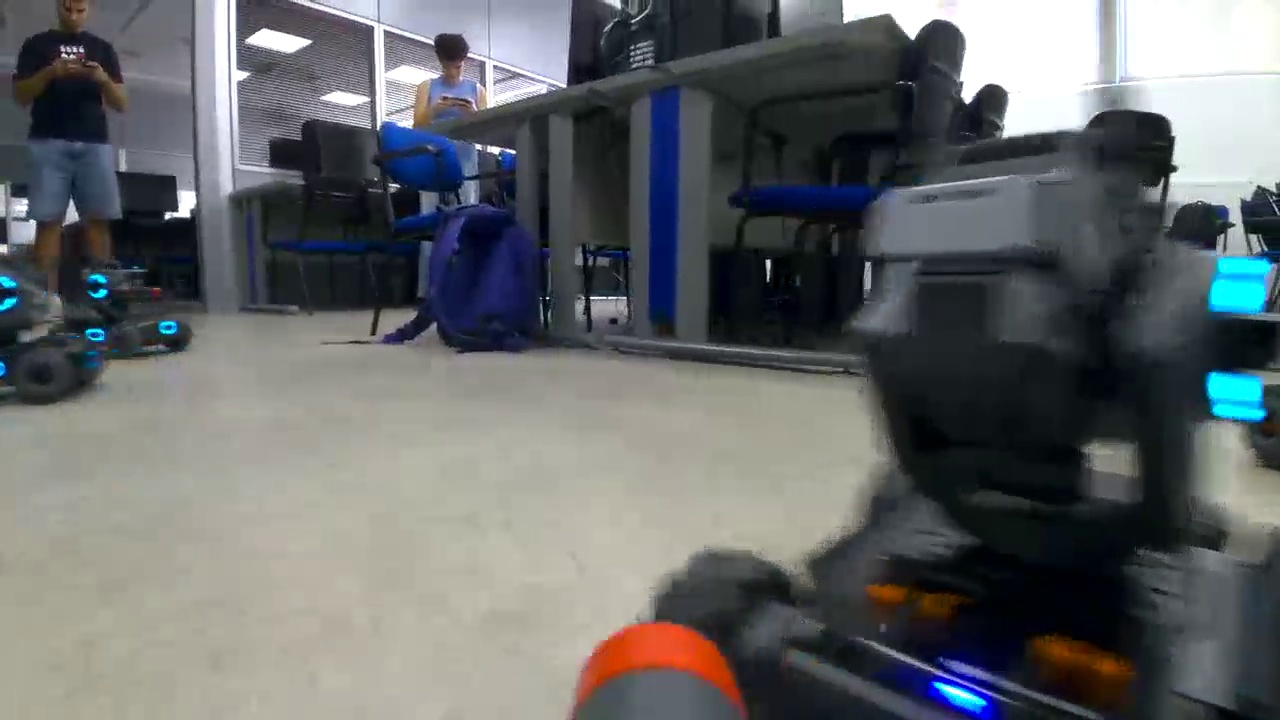robot: (651, 159, 1280, 720), (1, 262, 114, 407), (64, 259, 201, 355), (1245, 370, 1280, 488)
